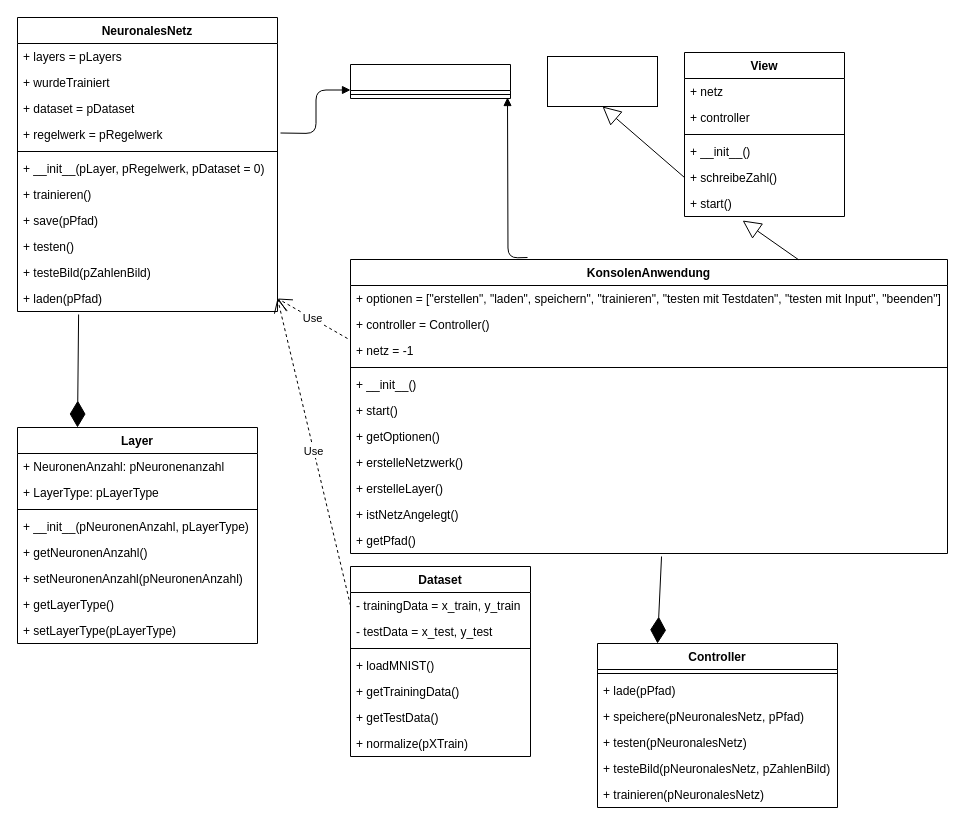
Some shapes in this 965 by 828 pixel diagram are drawn without their labels. The centre of each missing label's shape, as x and y in pixels:
"ABC" belongs at point 602,81.
"Regelwerk Blackbox" belongs at point 430,81.
